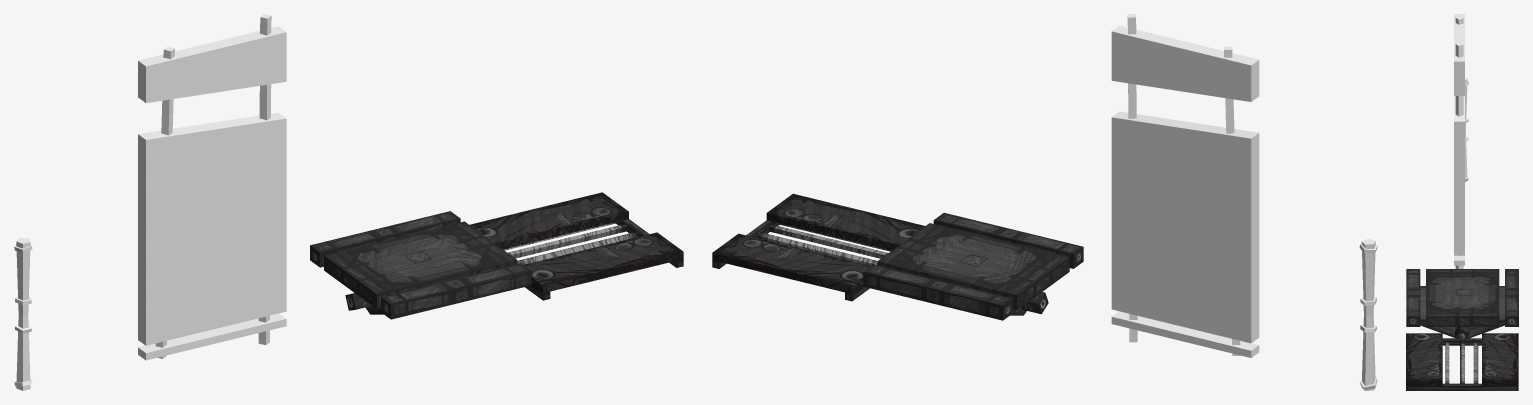
File: ceiling.glb
3 renders of one model, left to right at view 1: azimuth 30°, elevation 25°; view 2: azimuth 150°, elevation 25°; view 3: azimuth 270°, elevation 25°, orthographic. The views are drawn at different scales.
Visible parts, largest first — view 1: wall_Cube, floor, ceiling, column_ref_Circle; view 2: wall_Cube, floor, ceiling, column_ref_Circle; view 3: floor, ceiling, wall_Cube, column_ref_Circle.
Part boxes in pixels (x1,y1,x2,y2): wall_Cube: (138, 14, 286, 360); floor: (310, 211, 531, 319); ceiling: (469, 192, 683, 300); column_ref_Circle: (14, 238, 32, 390); wall_Cube: (1111, 14, 1259, 357); floor: (863, 212, 1083, 320); ceiling: (712, 193, 924, 301); column_ref_Circle: (1359, 239, 1377, 390); floor: (1406, 269, 1518, 338); ceiling: (1406, 333, 1518, 390); wall_Cube: (1454, 14, 1464, 268); column_ref_Circle: (1465, 78, 1468, 182).
Size of the model in its own units: 17.86 by 8.87 by 4.01.
Materials: 4 (2 with a texture image).
